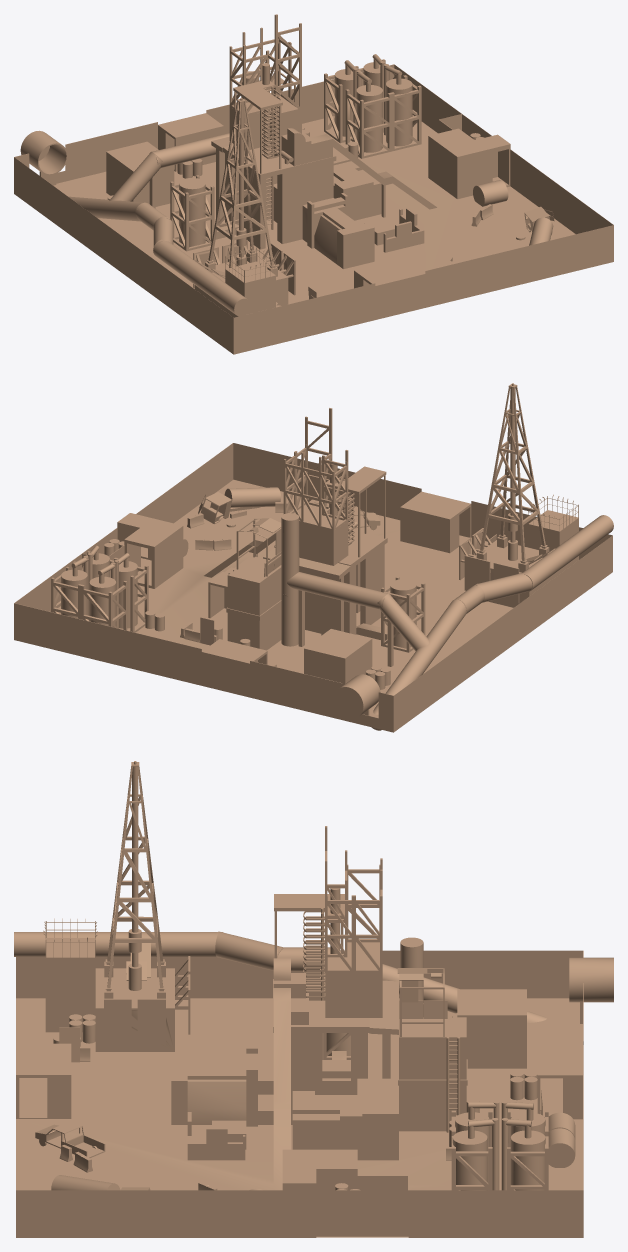
Rendered from rust.glb.
3 renders of one model, top to bottom at view 1: azimuth 30°, elevation 25°; view 2: azimuth 150°, elevation 25°; view 3: azimuth 270°, elevation 25°, orthographic. The views are drawn at different scales.
Visible parts, largest first — view 1: Object_2; view 2: Object_2; view 3: Object_2.
Part boxes in pixels (x1,y1,x2,y2): Object_2: (14, 14, 613, 354); Object_2: (14, 383, 613, 732); Object_2: (14, 761, 613, 1237).
Size of the model in its own units: 227 by 131 by 240.
1 material, 1 textured.
